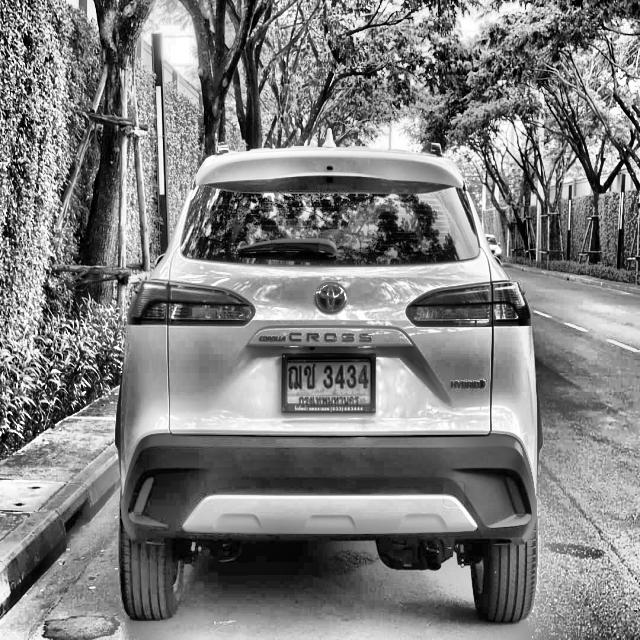license-plate: (282, 349, 376, 415)
